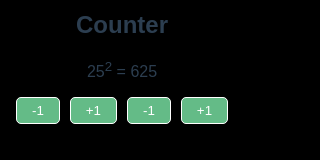
Scenario: Counter.vue › should increment counter in 1
This screenshot has width=320, height=160.
Click the 1st button "+1": (93, 111) [70,97,117,124]
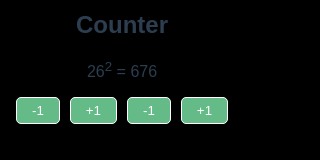
Now the text "26" is shown, box [87,63,105,80]
